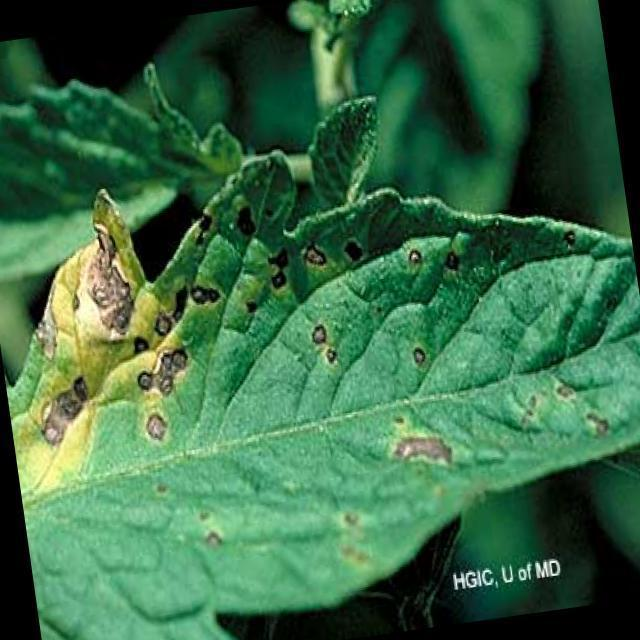Septoria: (12, 192, 608, 468)
